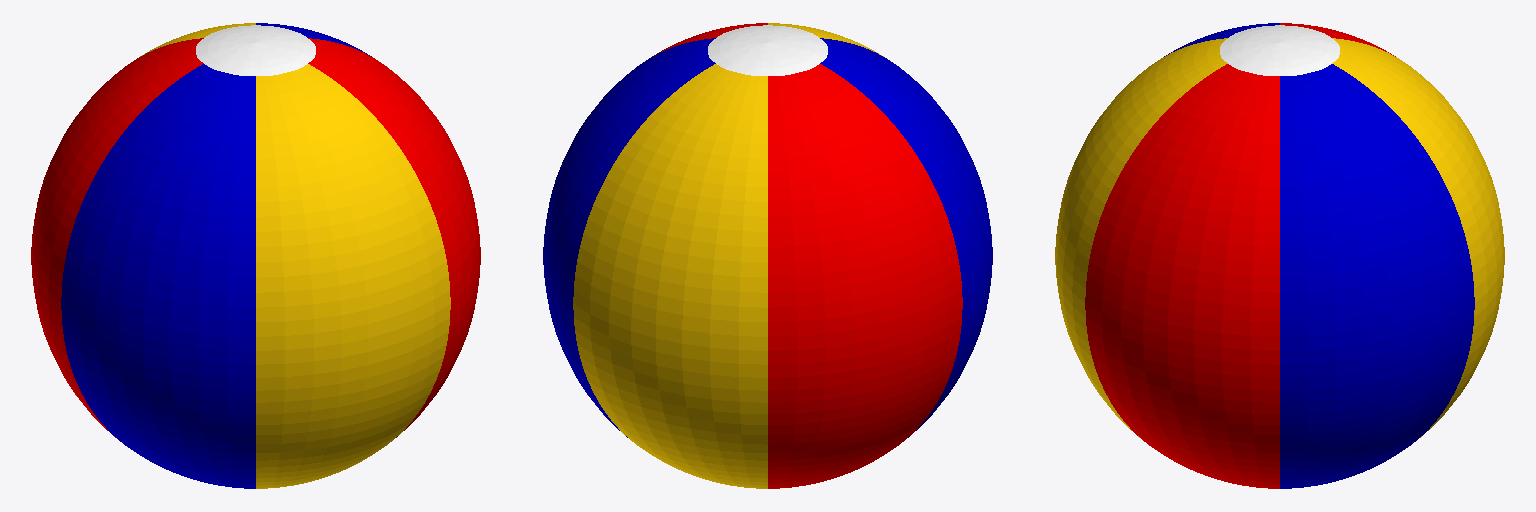
The model's file is beachball.obj.
The picture shows the model from 3 angles: view 1: azimuth 30°, elevation 25°; view 2: azimuth 150°, elevation 25°; view 3: azimuth 270°, elevation 25°; orthographic projection.
Visible parts, largest first — view 1: pSphere1; view 2: pSphere1; view 3: pSphere1.
Part boxes in pixels (x1,y1,x2,y2): pSphere1: (31, 23, 480, 488); pSphere1: (543, 23, 992, 488); pSphere1: (1055, 23, 1504, 488).
Bounding box in the file's own units: 2.83 × 2.97 × 2.83.